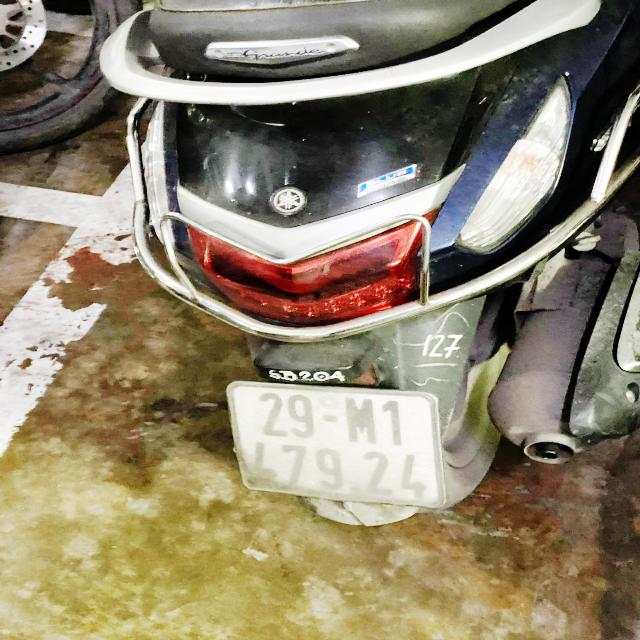license_plate: (224, 383, 448, 510)
